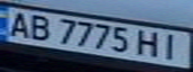5: (112, 25, 136, 55)
7: (51, 16, 78, 46), (90, 21, 115, 52), (72, 19, 93, 48)
A: (3, 9, 33, 38)
B: (24, 11, 54, 42)
H: (133, 28, 163, 58)
I: (157, 32, 187, 61)
